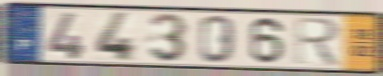0: (197, 13, 237, 65)
3: (142, 12, 192, 64)
4: (94, 10, 139, 63), (45, 9, 87, 61)
6: (248, 15, 287, 66)
R: (293, 15, 343, 69)
